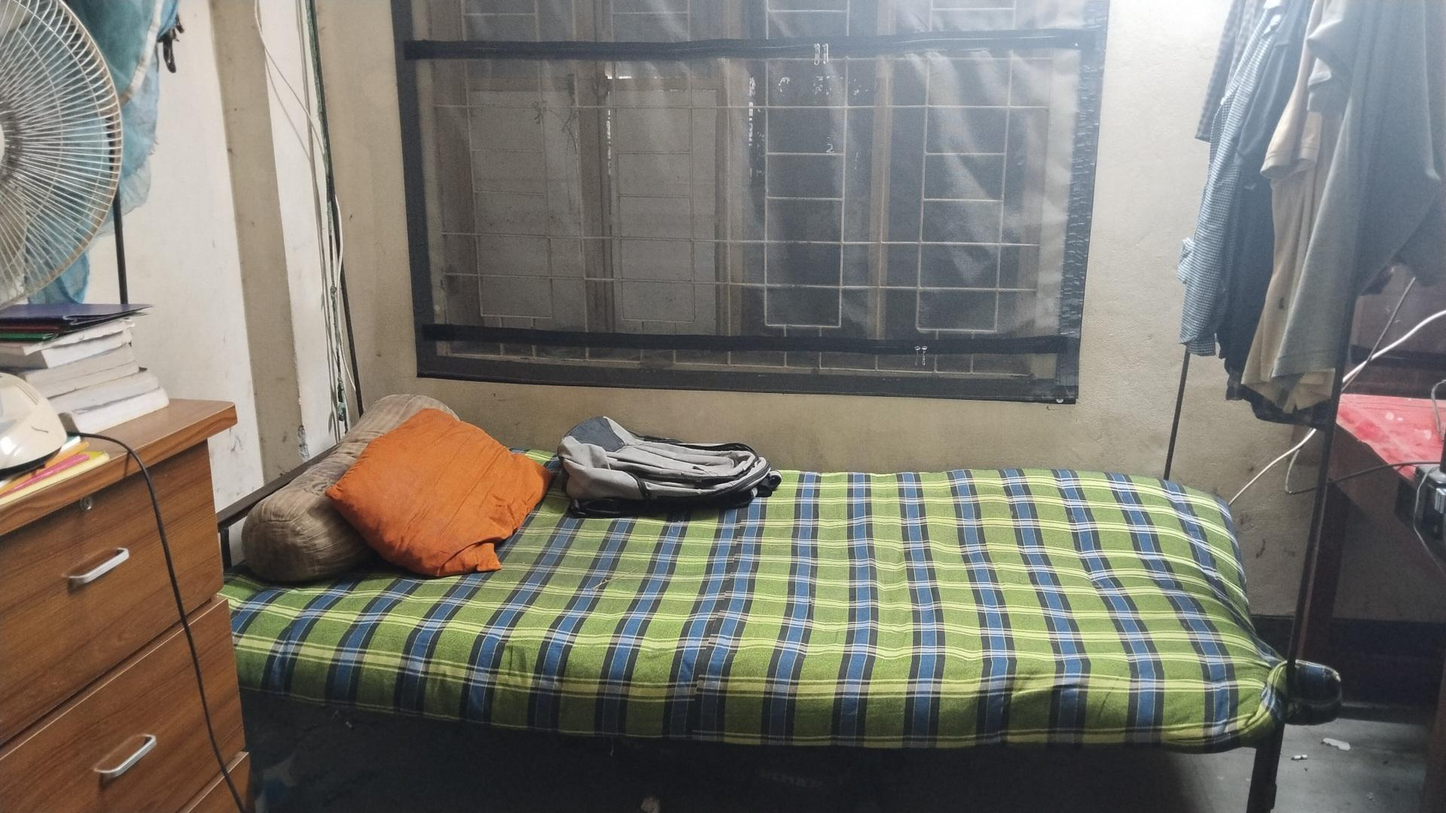Bag: (564, 402, 782, 512)
Pillow: (330, 408, 550, 571)
